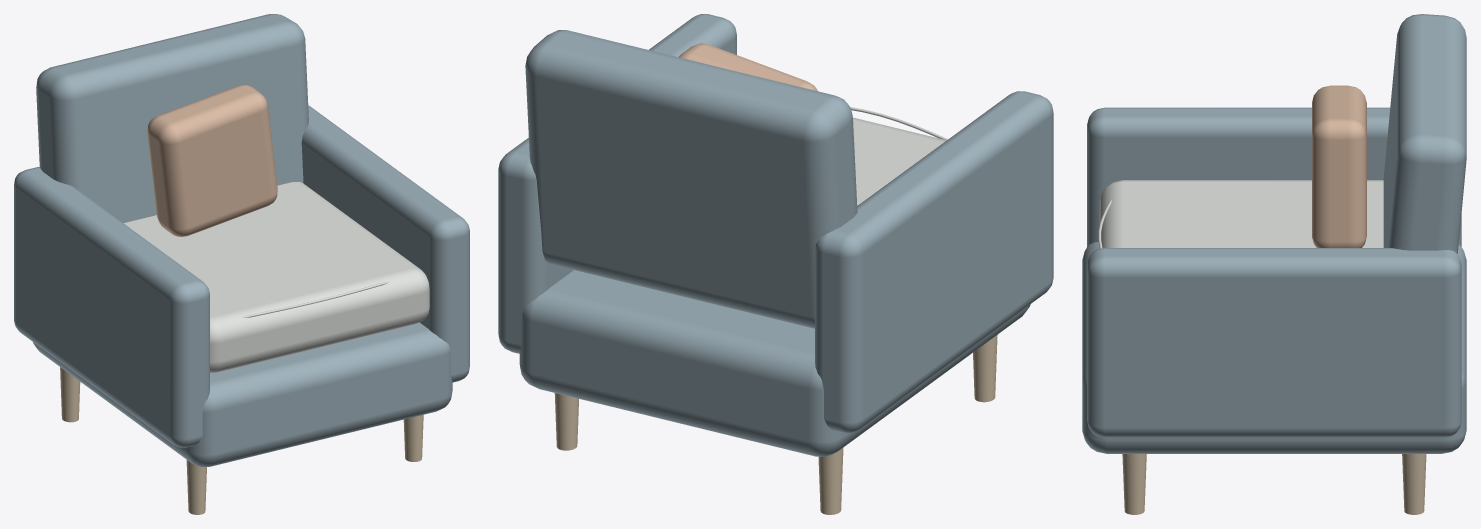
File: armchair.glb
The picture shows the model from 3 angles, left to right: view 1: azimuth 30°, elevation 25°; view 2: azimuth 150°, elevation 25°; view 3: azimuth 270°, elevation 25°; orthographic projection. The views are drawn at different scales.
Visible parts, largest first — view 1: armchair; view 2: armchair; view 3: armchair.
Part boxes in pixels (box(x1,y1,x2,y2)): armchair: box(14, 14, 469, 514); armchair: box(498, 14, 1053, 514); armchair: box(1082, 14, 1466, 514).
Bounding box in the file's own units: 0.83 × 0.91 × 0.84.
